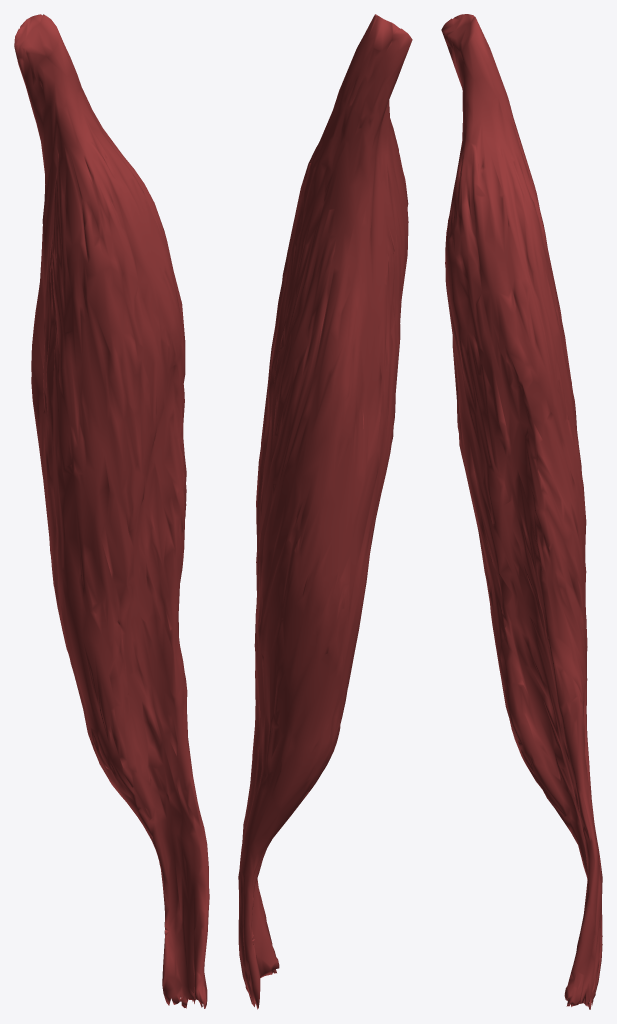
The model's file is long-head-of-biceps-femoris-l.glb.
3 views of the same model, side by side, from view 1: azimuth 30°, elevation 25°; view 2: azimuth 150°, elevation 25°; view 3: azimuth 330°, elevation 25° (orthographic). The views are drawn at different scales.
Visible parts, largest first — view 1: Long head of biceps femoris.l; view 2: Long head of biceps femoris.l; view 3: Long head of biceps femoris.l.
Boxes of the visible parts, <box> form: Long head of biceps femoris.l: <box>14,14,209,1008</box>; Long head of biceps femoris.l: <box>238,14,412,1009</box>; Long head of biceps femoris.l: <box>441,14,602,1009</box>.
Bounding box in the file's own units: 0.0783 × 0.4254 × 0.0558.
